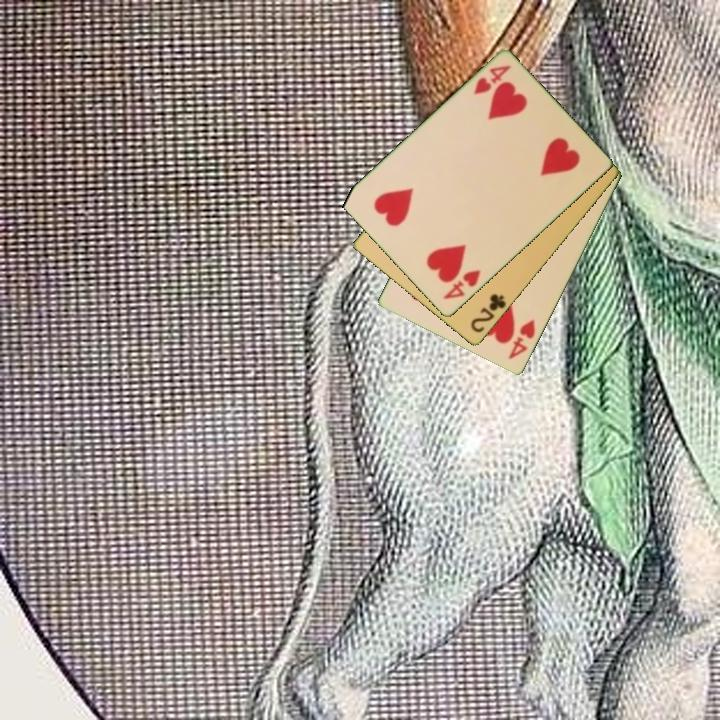2c: (467, 290, 509, 336)
4h: (440, 266, 483, 303), (470, 62, 514, 98), (505, 316, 538, 362)
